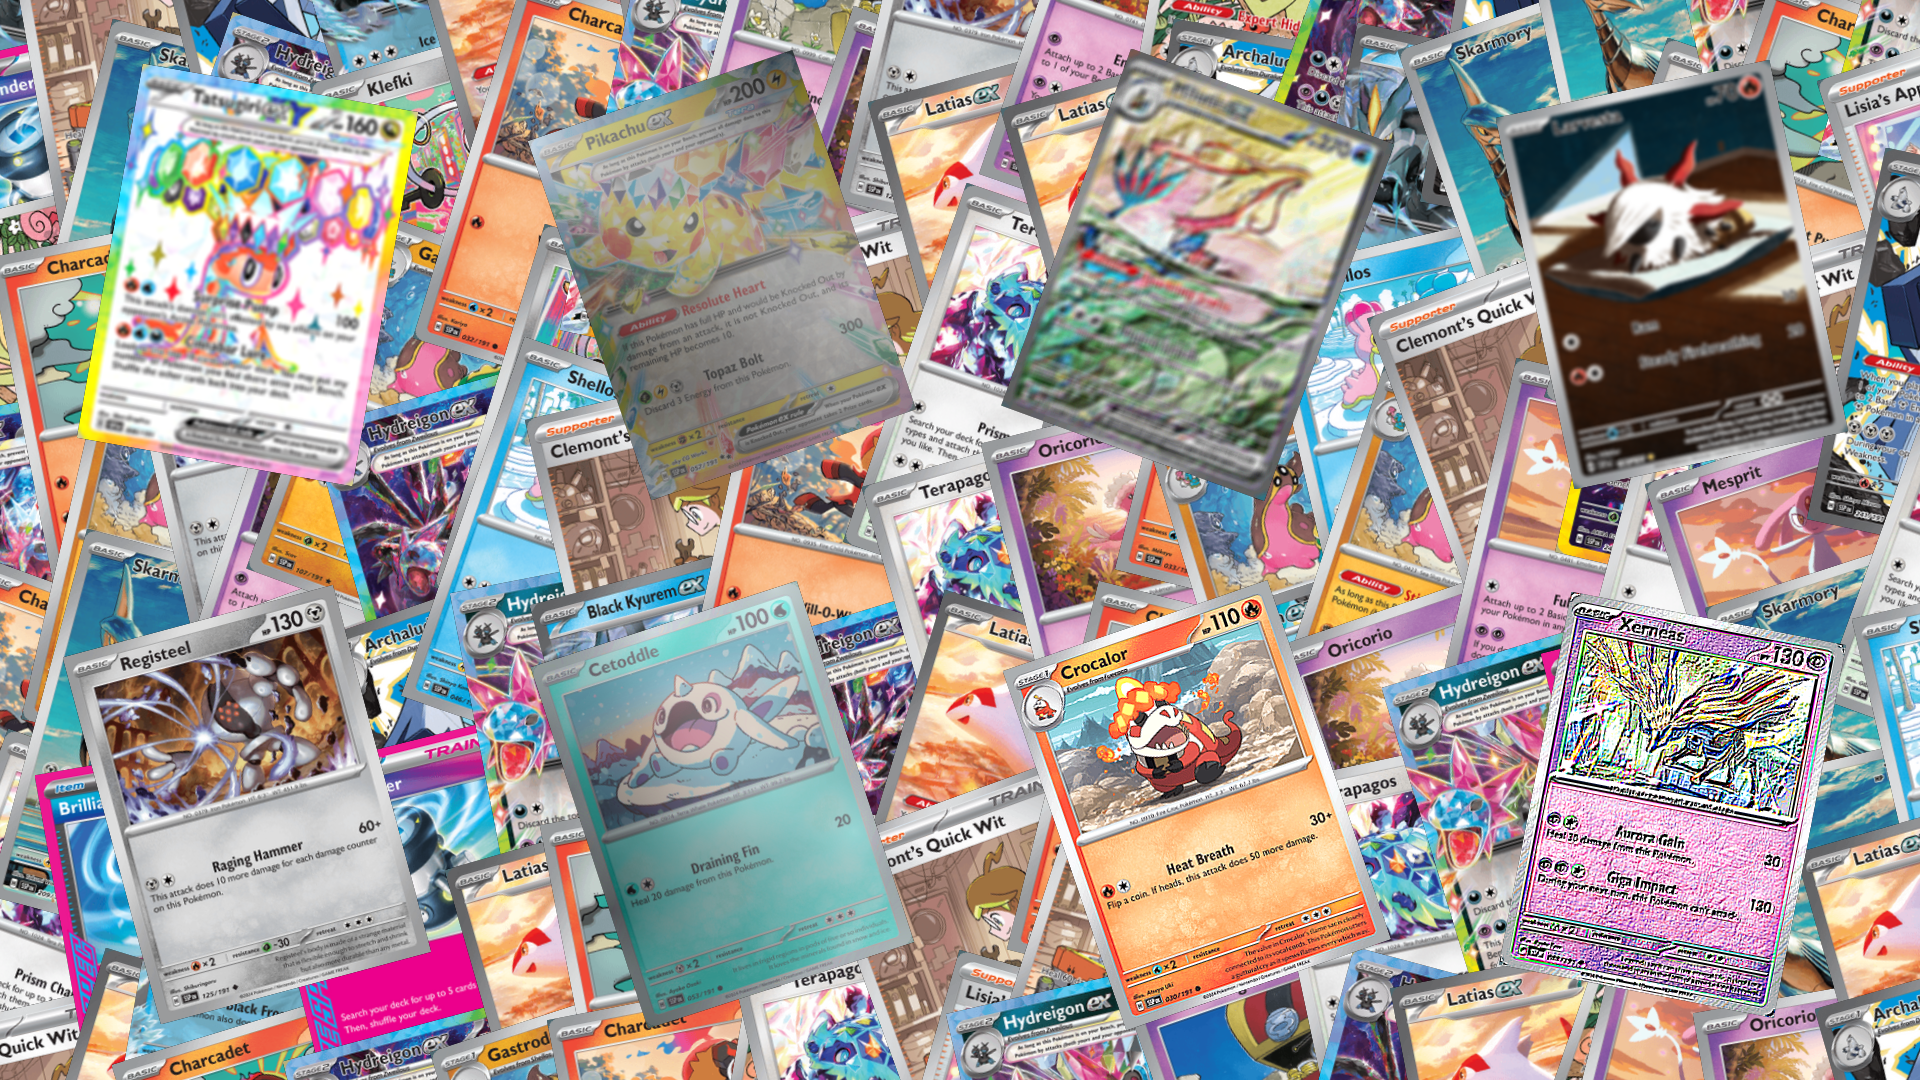Cetoddle: (530, 580, 914, 1029)
Crocalor: (1002, 579, 1391, 1030)
Larvesta: (1495, 59, 1847, 489)
Milotic_ex: (1000, 47, 1394, 501)
Pikachu_ex: (527, 49, 916, 500)
Registeel: (62, 584, 431, 1025)
Tatsugiri_ex: (76, 63, 418, 487)
Xerneas: (1498, 591, 1846, 1018)
